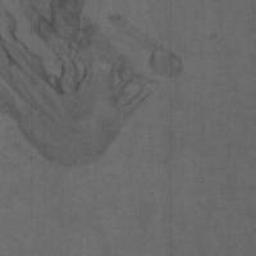Water spot: (0, 0, 186, 168)
